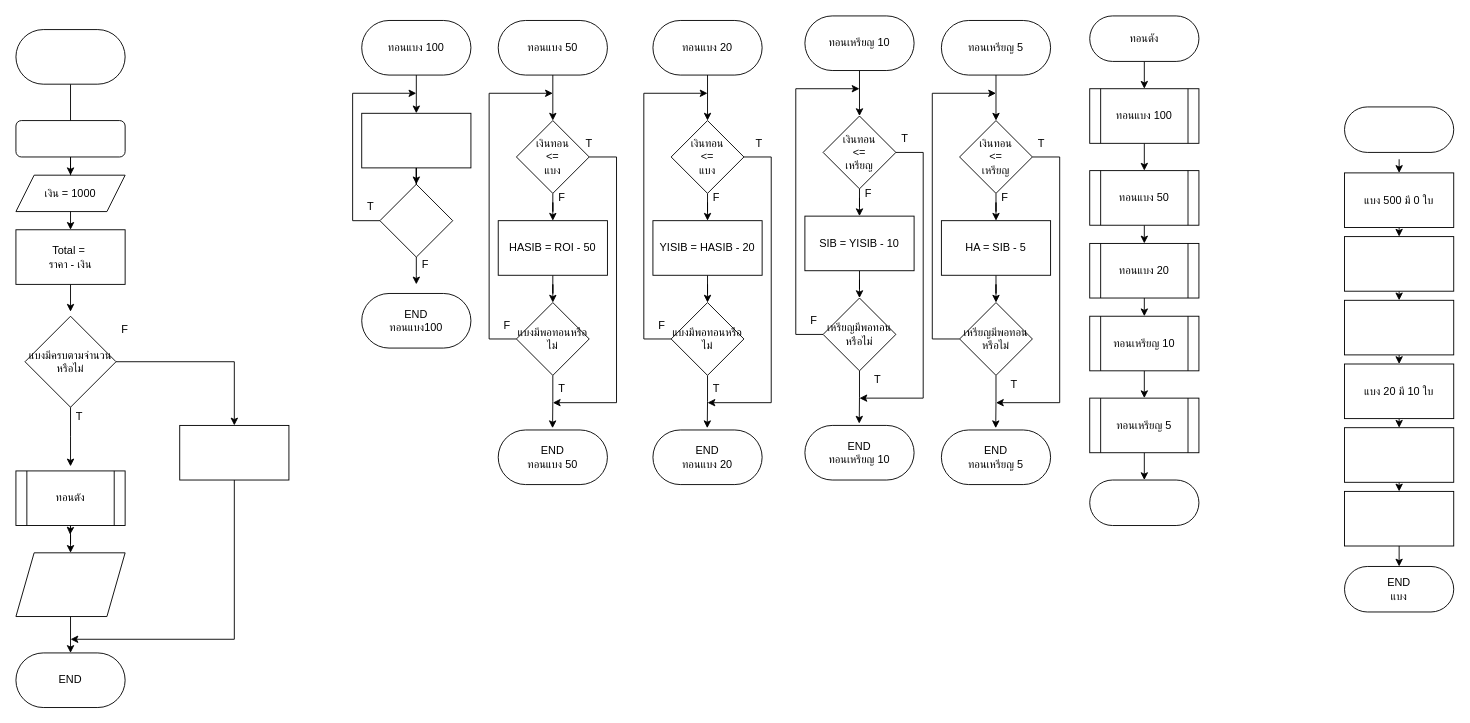
The diagram is 1470 pixels wide and 723 high, and some of its shapes have lost their labels. Here are the shapes that lost their labels. From the top down, the centre of each, then its label:
At pixel 70 56: "Start".
At pixel 70 138: "ราคา = 45".
At pixel 416 140: "ROI = Total - 100".
At pixel 1399 129: "แบง".
At pixel 416 220: "แบงร้อนมีพอทอนหรือไม่".
At pixel 1399 263: "แบง 100มี 5 ใบ".
At pixel 1399 327: "แบง 50 มี 20 ใบ".
At pixel 234 452: "เอาเงินคืน".
At pixel 1399 454: "เหรียญ 10 มี 1000".
At pixel 1144 502: "END ทอนตัง".
At pixel 1399 518: "เหรียญ 5 มี 100".
At pixel 70 584: "ROI HASIB YISIB SIB HA".
